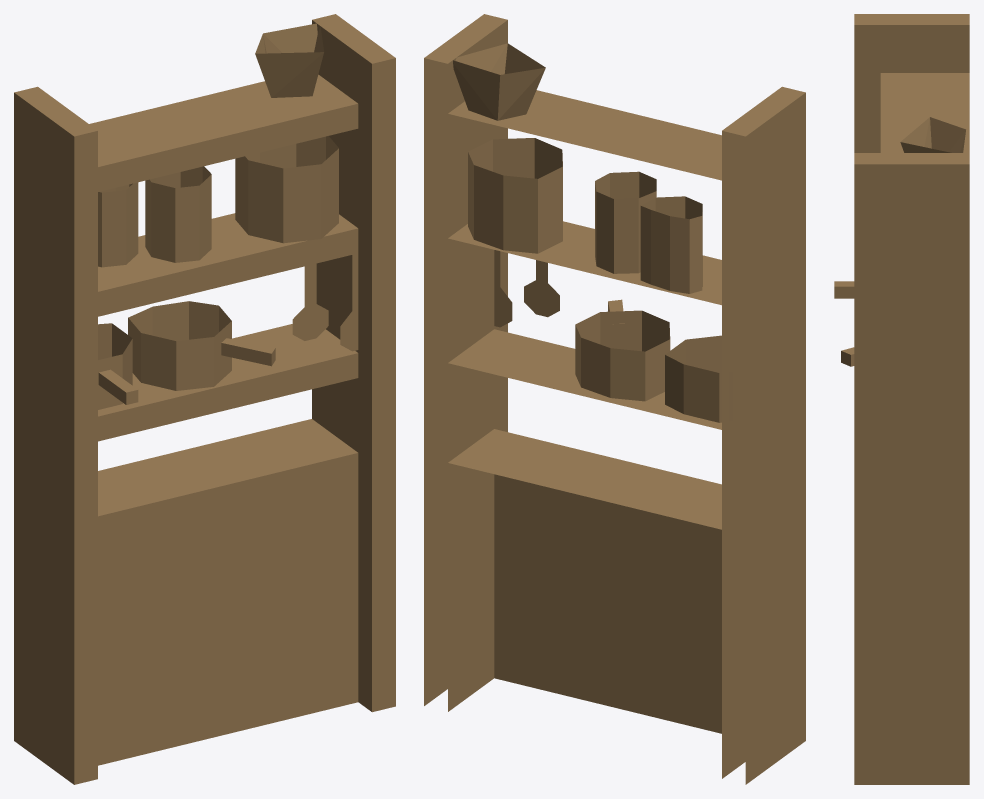
Rendered from cooking_shelves.obj.
3 views of the same model, side by side, from view 1: azimuth 30°, elevation 25°; view 2: azimuth 150°, elevation 25°; view 3: azimuth 270°, elevation 25° (orthographic). The views are drawn at different scales.
Parts seen in each view (by area): view 1: Object Shelves 2026-09-21_11-26-25; view 2: Object Shelves 2026-09-21_11-26-25; view 3: Object Shelves 2026-09-21_11-26-25.
Boxes of the visible parts, x1,y1,x2,y2 form: Object Shelves 2026-09-21_11-26-25: (14, 14, 395, 784); Object Shelves 2026-09-21_11-26-25: (424, 14, 805, 784); Object Shelves 2026-09-21_11-26-25: (834, 14, 969, 784).
Size of the model in its own units: 108 by 208 by 41.
